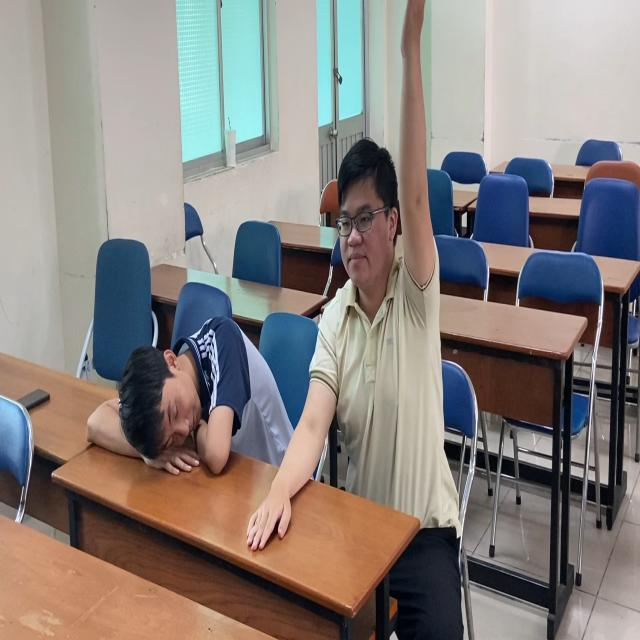raise_hand: (296, 1, 452, 528)
sleep: (104, 304, 282, 478)
